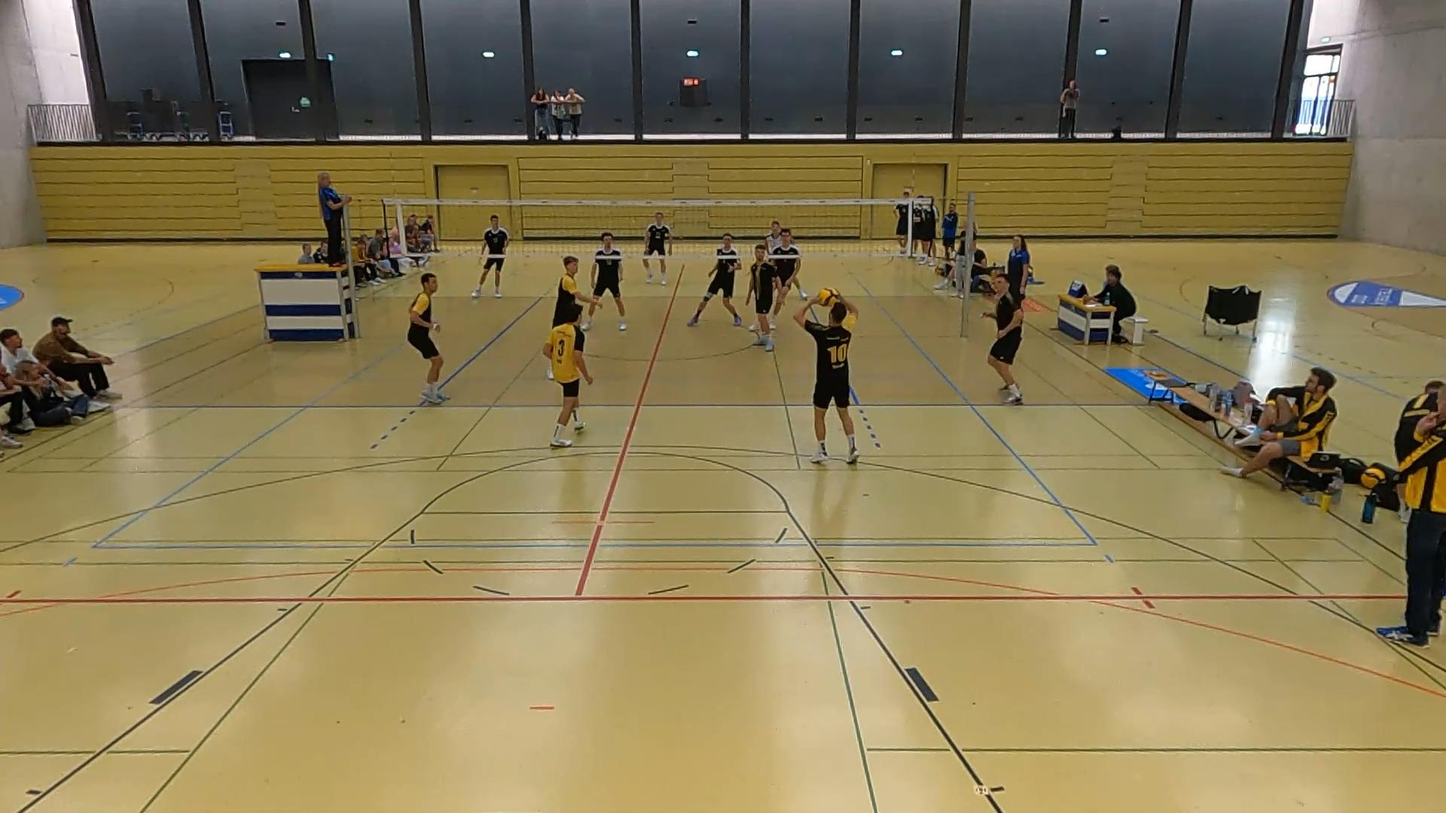difesa: (792, 282, 866, 472)
